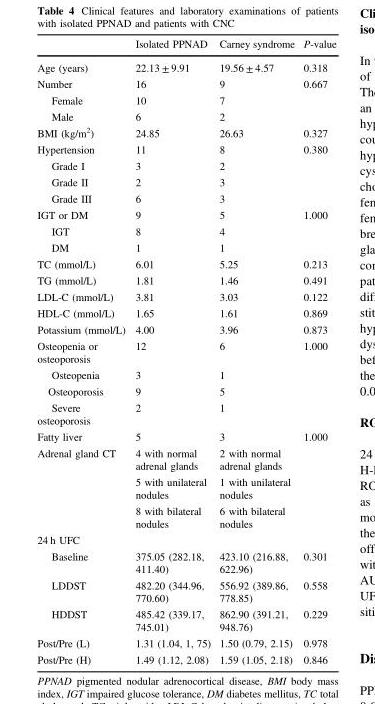table: (36, 37, 335, 664)
table column: (36, 37, 129, 664), (129, 37, 214, 664), (214, 37, 298, 664), (298, 37, 335, 664)
table column header: (36, 37, 335, 54)
table projected row header: (36, 531, 335, 547)
table row: (36, 337, 335, 366), (36, 398, 335, 427), (36, 444, 335, 473), (36, 473, 335, 502), (36, 502, 335, 531), (36, 547, 335, 576), (36, 576, 335, 605), (36, 605, 335, 634), (36, 54, 335, 75), (36, 37, 335, 54), (36, 123, 335, 140), (36, 140, 335, 157), (36, 189, 335, 206), (36, 238, 335, 255), (36, 271, 335, 288), (36, 320, 335, 337), (36, 427, 335, 444), (36, 75, 335, 91), (36, 91, 335, 107), (36, 107, 335, 123), (36, 157, 335, 173), (36, 173, 335, 189), (36, 206, 335, 222), (36, 222, 335, 238), (36, 255, 335, 271), (36, 288, 335, 304), (36, 304, 335, 320), (36, 366, 335, 382), (36, 382, 335, 398), (36, 531, 335, 547), (36, 634, 335, 650), (36, 650, 335, 664)
table spanning cell: (36, 444, 129, 531)
